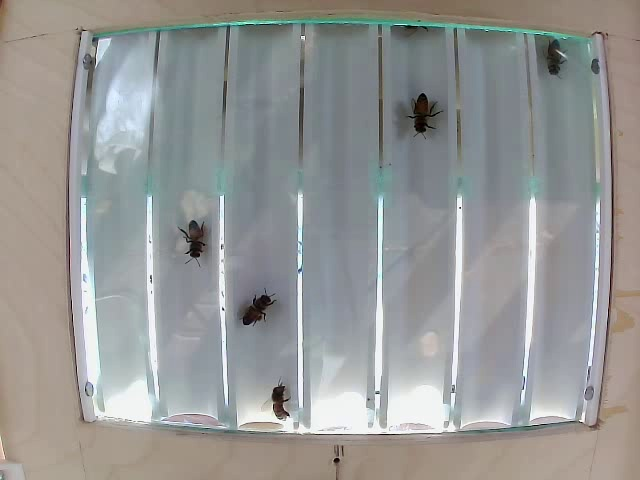bee: (404, 92, 441, 152), (178, 210, 218, 258), (237, 282, 272, 333), (257, 372, 291, 411)
